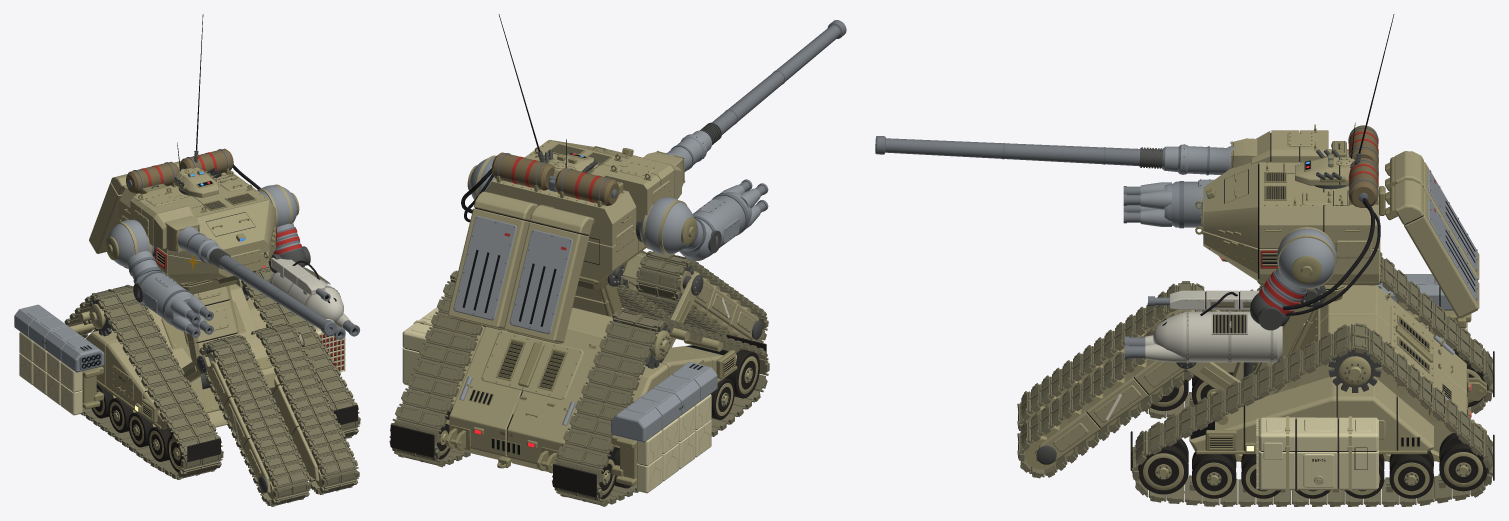
Rendered from rtx440_guntank.glb.
3 renders of one model, left to right at view 1: azimuth 30°, elevation 25°; view 2: azimuth 150°, elevation 25°; view 3: azimuth 270°, elevation 25°, orthographic. The views are drawn at different scales.
Visible parts, largest first — view 1: Main_Track_R_Links, Sub_Track_R_Links, Sub_Track_L_Links, Torso, Main_Track_L_Links, Mines, MLRS_Case, Main_Tyres_R, Sponson_R, Cannon_Barrel, Cannon_Housing, Main_Wheels_R (+31 smaller); view 2: Main_Track_R_Links, Hull_Center, Main_Track_L_Links, Torso, Mines, Back_Unit_Face_R, Back_Unit_Face_L, Sub_Track_R_Links, Back_Unit_Shell_R, Back_Unit_Shell_L, MLRS_Case, Deck_Cover (+24 smaller); view 3: Main_Track_L_Links, Torso, Sponson_L, Main_Tyres_L, Rocket_Case, Hull_Center, Sub_Track_L_Links, ArmL_Pod, Main_Wheels_L, Cannon_Barrel, Sub_Track_R_Links, Main_Track_R_Links (+25 smaller).
Boxes of the visible parts, x1,y1,x2,y2 form: Main_Track_R_Links: (64,284,223,479); Sub_Track_R_Links: (199,335,310,506); Sub_Track_L_Links: (251,323,359,494); Torso: (119,171,275,283); Main_Track_L_Links: (241,262,360,438); Mines: (19,331,82,415); MLRS_Case: (14,304,104,372); Main_Tyres_R: (91,383,187,472); Sponson_R: (85,329,167,429); Cannon_Barrel: (219,255,336,335); Cannon_Housing: (130,188,197,248); Main_Wheels_R: (69,303,184,469); Main_Track_R_Links: (552,308,769,506); Hull_Center: (449,307,612,471); Main_Track_L_Links: (389,270,482,467); Torso: (485,139,645,281); Mines: (636,394,711,493); Back_Unit_Face_R: (509,229,572,334); Back_Unit_Face_L: (453,216,516,320); Sub_Track_R_Links: (636,251,768,342); Back_Unit_Shell_R: (504,205,593,343); Back_Unit_Shell_L: (448,191,537,329); MLRS_Case: (611,362,717,442); Deck_Cover: (481,330,583,399); Main_Track_L_Links: (1131,323,1492,506); Torso: (1203,149,1378,281); Sponson_L: (1189,376,1433,452); Main_Tyres_L: (1138,432,1487,498); Rocket_Case: (1258,417,1378,490); Hull_Center: (1236,285,1466,461); Sub_Track_L_Links: (1017,310,1193,478); ArmL_Pod: (1153,311,1282,362); Main_Wheels_L: (1143,342,1482,495); Cannon_Barrel: (875,136,1140,166); Sub_Track_R_Links: (1017,281,1212,431); Main_Track_R_Links: (1142,252,1493,418).
Size of the model in its own units: 14.8 by 21.17 by 25.72.
